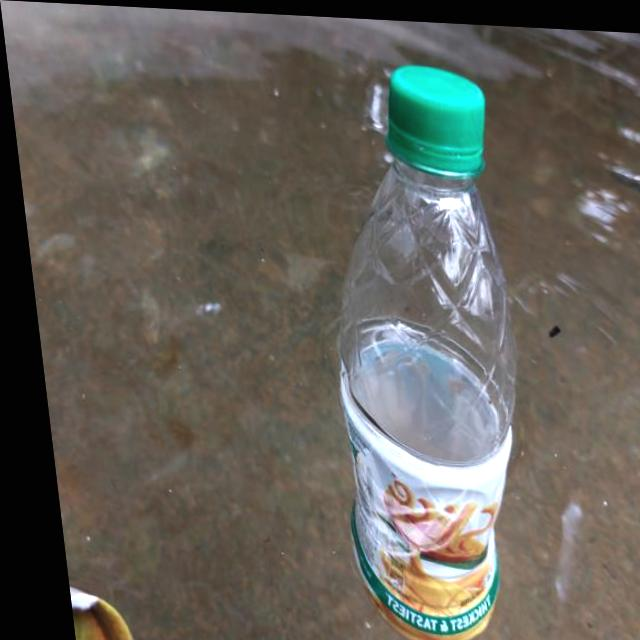leaf: (54, 565, 129, 640)
waterbottle: (262, 48, 554, 636)
